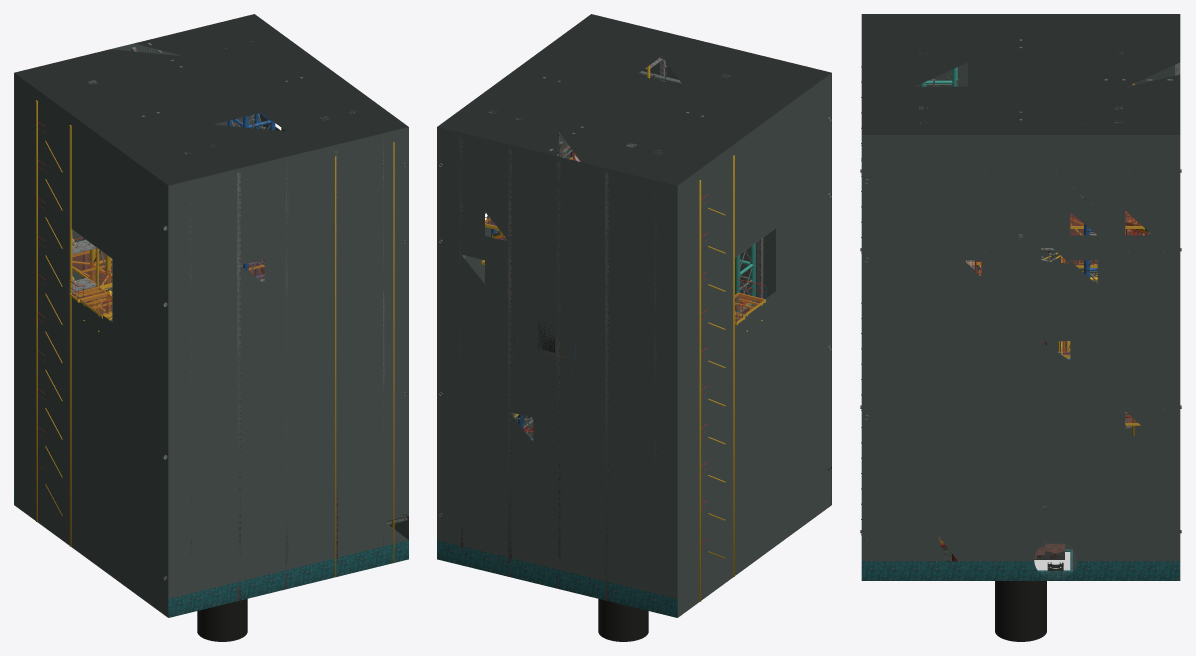
File: torre_struttura.glb
3 views of the same model, side by side, from view 1: azimuth 30°, elevation 25°; view 2: azimuth 150°, elevation 25°; view 3: azimuth 270°, elevation 25° (orthographic). The views are drawn at different scales.
Parts seen in each view (by area): view 1: torre_A-col, torre_A_grigliati-col; view 2: torre_A-col; view 3: torre_A-col, torre_A_grigliati-col.
Part boxes in pixels (x1=…): torre_A-col: x1=14, y1=14, x2=408, y2=641; torre_A_grigliati-col: x1=70, y1=249, x2=264, y2=315; torre_A-col: x1=437, y1=14, x2=831, y2=641; torre_A-col: x1=860, y1=14, x2=1181, y2=641; torre_A_grigliati-col: x1=939, y1=211, x2=1144, y2=558.
Size of the model in its own units: 20.09 by 42.02 by 22.2.
Materials: 24 (19 with a texture image).
